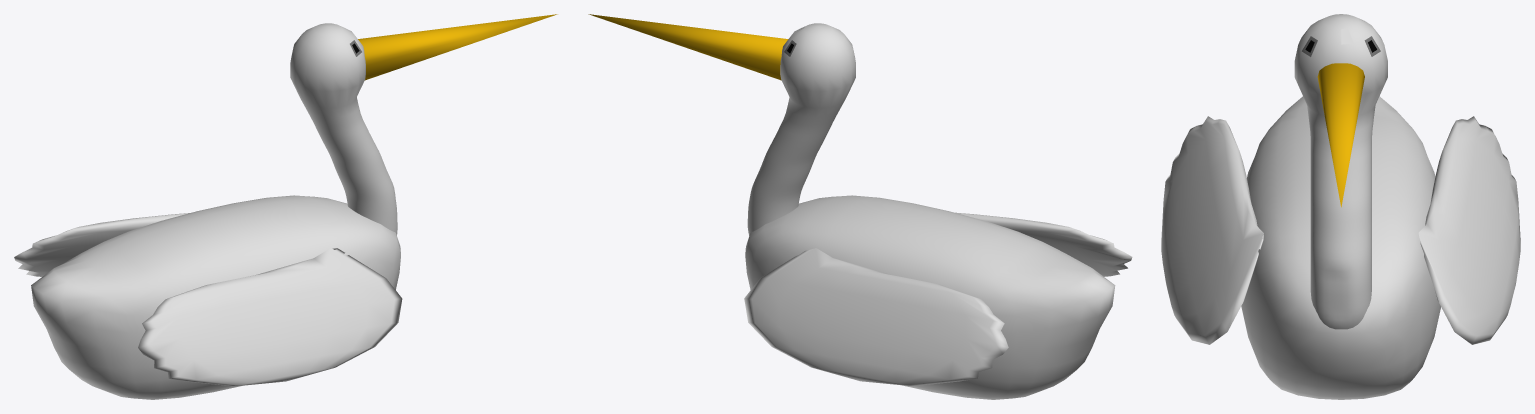
Rendered from bird.fbx.
3 views of the same model, side by side, from view 1: azimuth 30°, elevation 25°; view 2: azimuth 150°, elevation 25°; view 3: azimuth 270°, elevation 25° (orthographic). The views are drawn at different scales.
Parts seen in each view (by area): view 1: cube3_default, sphere5_copy7_default, polySurface1, polySurface2, sphere5_default; view 2: cube3_default, sphere5_default, polySurface1, polySurface2, sphere5_copy7_default; view 3: cube3_default, polySurface1, sphere5_copy7_default, sphere5_default, polySurface2.
Boxes of the visible parts, left/top/right/bottom form: cube3_default: left=31, top=195, right=400, bottom=399; sphere5_copy7_default: left=138, top=248, right=402, bottom=386; polySurface1: left=290, top=23, right=397, bottom=235; polySurface2: left=358, top=14, right=557, bottom=80; sphere5_default: left=14, top=213, right=189, bottom=276; cube3_default: left=745, top=195, right=1115, bottom=399; sphere5_default: left=744, top=248, right=1008, bottom=386; polySurface1: left=747, top=23, right=855, bottom=235; polySurface2: left=588, top=14, right=788, bottom=80; sphere5_copy7_default: left=955, top=212, right=1132, bottom=276; cube3_default: left=1241, top=96, right=1440, bottom=399; polySurface1: left=1294, top=14, right=1387, bottom=329; sphere5_copy7_default: left=1161, top=116, right=1263, bottom=344; sphere5_default: left=1418, top=116, right=1520, bottom=344; polySurface2: left=1317, top=63, right=1364, bottom=207.
Size of the model in its own units: 17.35 by 10.23 by 8.47.
